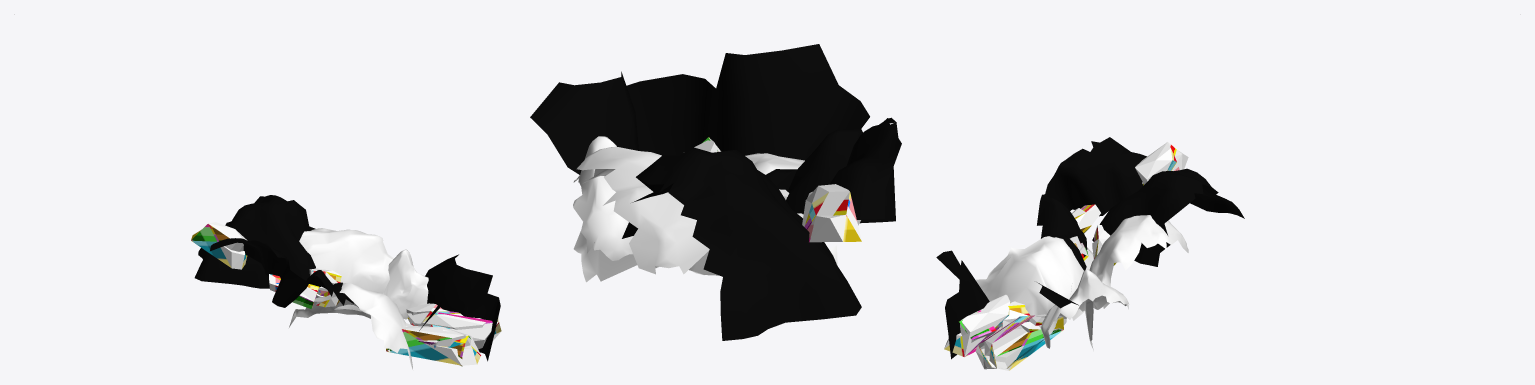
3 views of the same model, side by side, from view 1: azimuth 30°, elevation 25°; view 2: azimuth 150°, elevation 25°; view 3: azimuth 270°, elevation 25° (orthographic). The views are drawn at different scales.
Parts seen in each view (by area): view 1: part5; view 2: part5; view 3: part5.
Part boxes in pixels (bbox=[...]): part5: bbox=[14, 14, 501, 369]; part5: bbox=[530, 44, 901, 340]; part5: bbox=[936, 14, 1520, 370].
Size of the model in its own units: 630 by 537 by 1189.
Materials: 3 (3 with a texture image).
